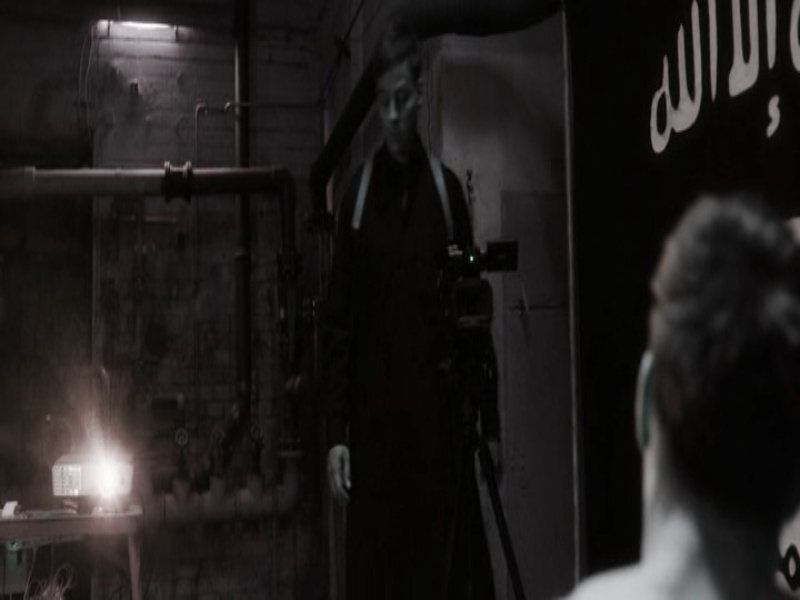TsisyArotava: (366, 42, 437, 176)
